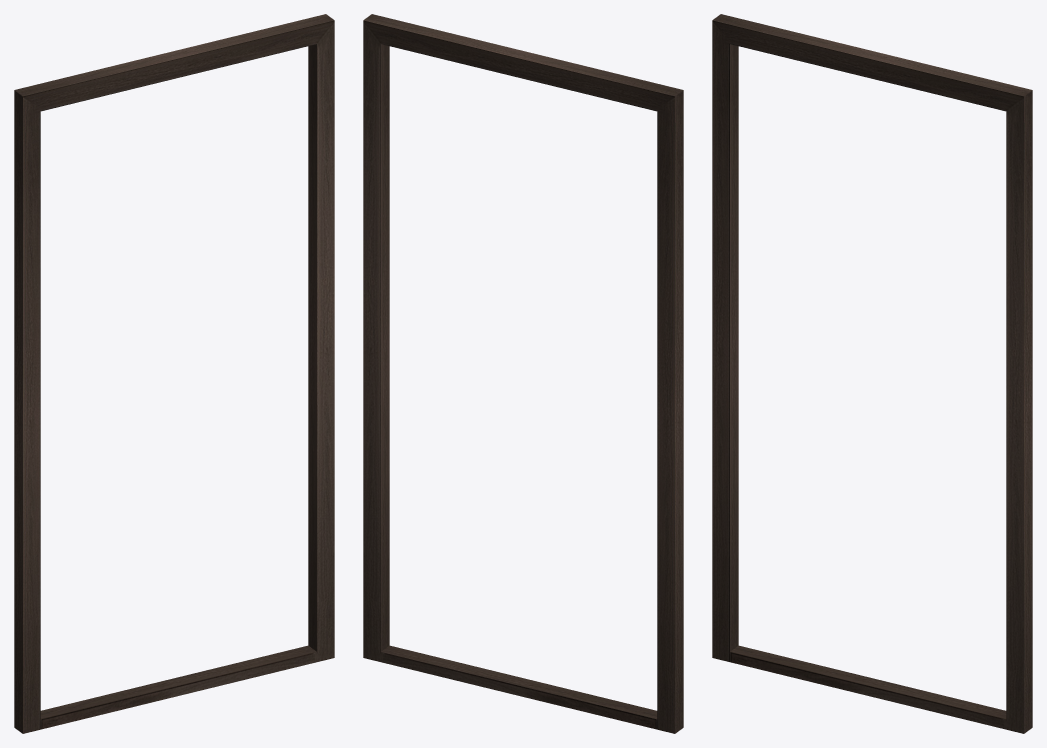
Rendered from Door07Frame.FBX.
The picture shows the model from 3 angles, left to right: view 1: azimuth 30°, elevation 25°; view 2: azimuth 150°, elevation 25°; view 3: azimuth 330°, elevation 25°; orthographic projection.
Visible parts, largest first — view 1: Door07Frame; view 2: Door07Frame; view 3: Door07Frame.
Boxes of the visible parts, <box> form: Door07Frame: <box>14,14,334,733</box>; Door07Frame: <box>363,14,683,733</box>; Door07Frame: <box>712,14,1032,733</box>.
Size of the model in its own units: 44.42 by 86.76 by 2.17.
